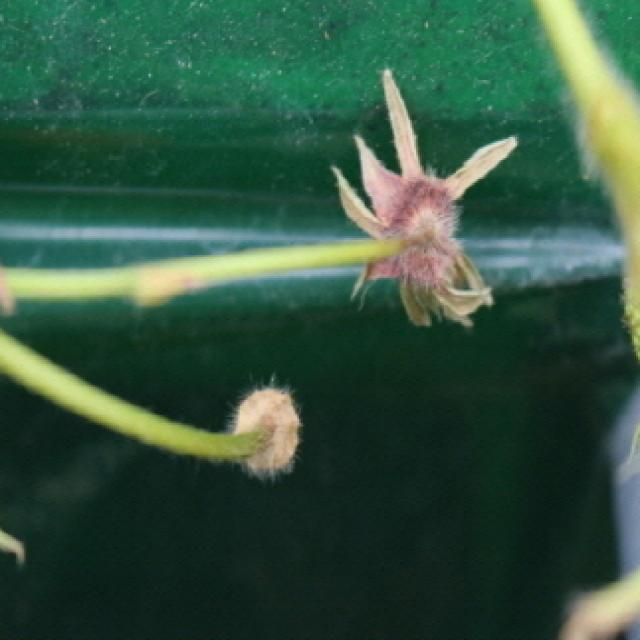Gray Mold: (329, 66, 519, 329)
